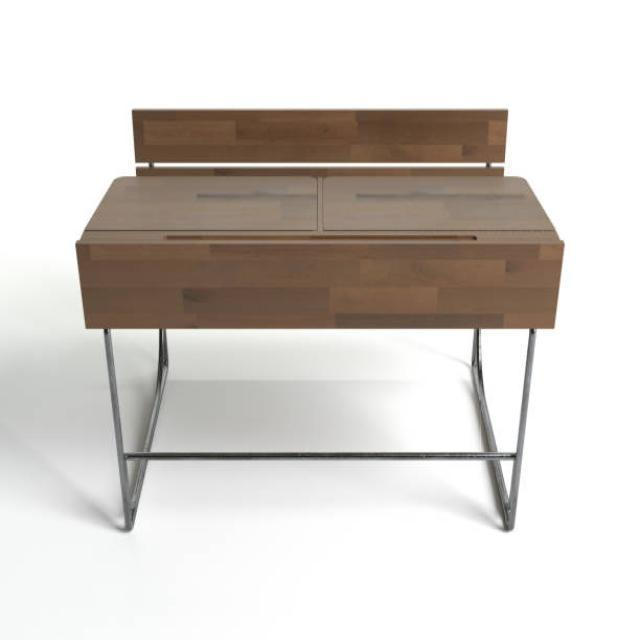table: (74, 108, 565, 533)
